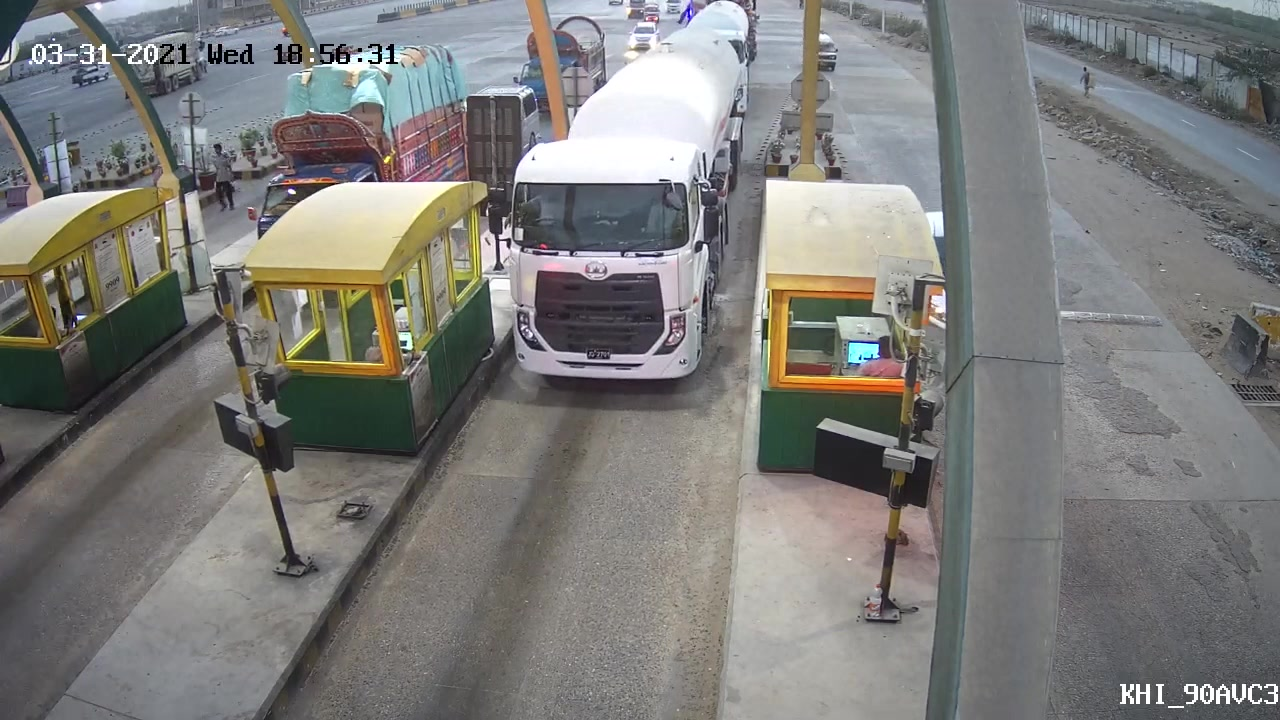F6: (484, 116, 733, 392)
